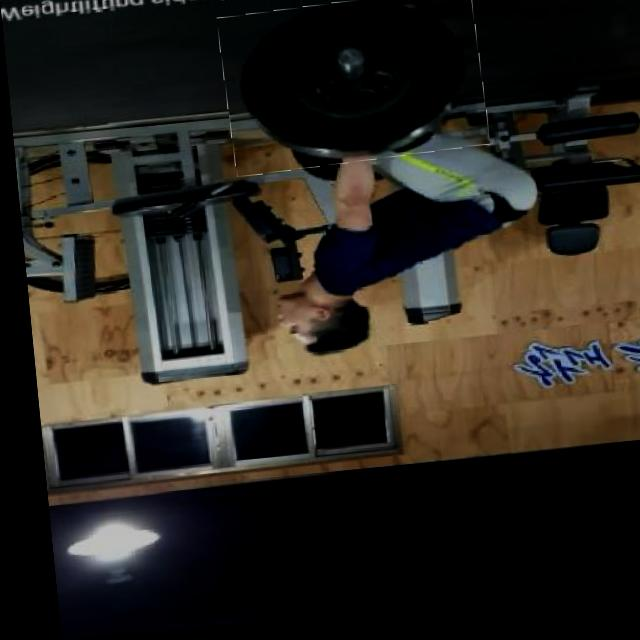barbell: (218, 1, 487, 181)
